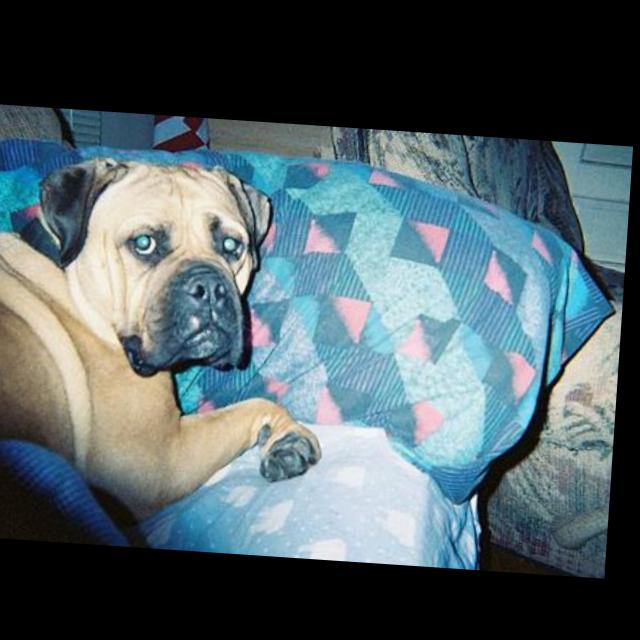bullmastiff: (1, 149, 343, 538)
